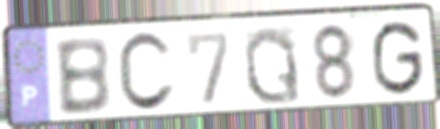7: (182, 29, 232, 108)
8: (309, 21, 360, 102)
B: (52, 34, 114, 118)
C: (115, 29, 178, 116)
G: (370, 18, 426, 99)
Q: (241, 23, 304, 107)
